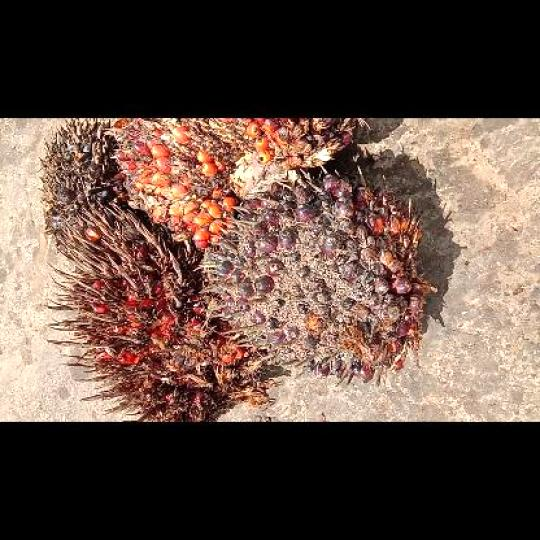kurang masak: (201, 165, 438, 383)
masak: (109, 118, 363, 248)
terlalu masak: (44, 203, 270, 420)
